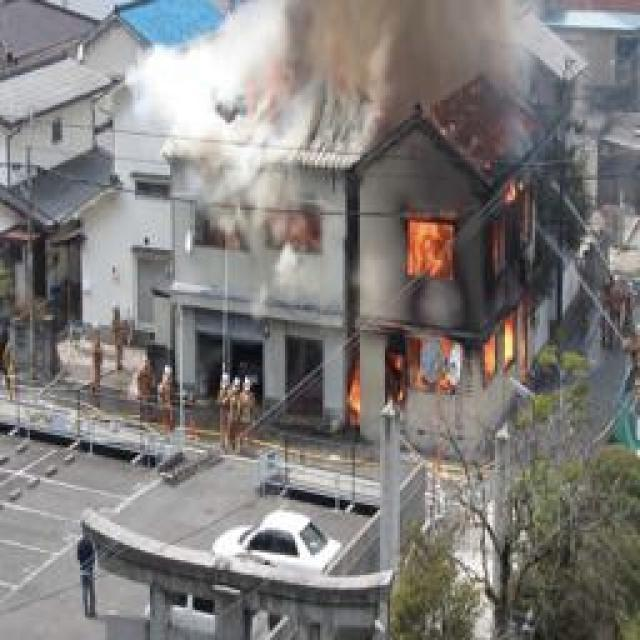Fire: (324, 169, 555, 433)
